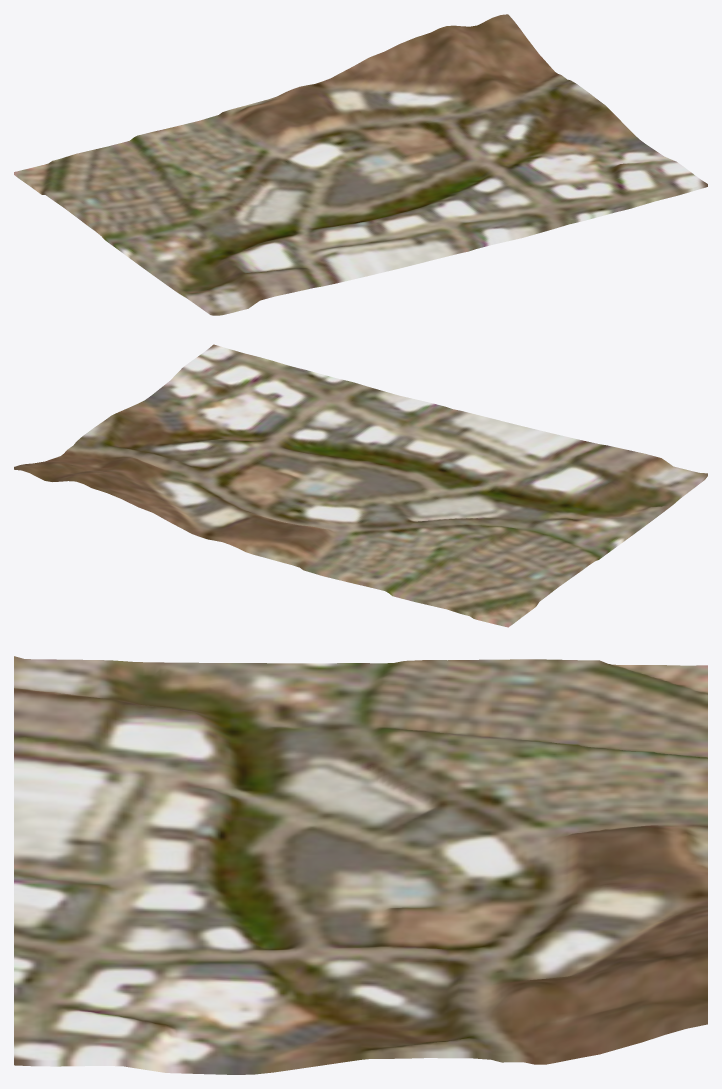
The model's file is terrain_r3_c5_lod1.glb.
3 renders of one model, top to bottom at view 1: azimuth 30°, elevation 25°; view 2: azimuth 150°, elevation 25°; view 3: azimuth 270°, elevation 25°, orthographic. The views are drawn at different scales.
Parts seen in each view (by area): view 1: terrain_r3_c5_lod1; view 2: terrain_r3_c5_lod1; view 3: terrain_r3_c5_lod1.
Boxes of the visible parts, x1,y1,x2,y2 form: terrain_r3_c5_lod1: [14, 14, 707, 315]; terrain_r3_c5_lod1: [14, 344, 707, 627]; terrain_r3_c5_lod1: [14, 656, 707, 1074].
Bounding box in the file's own units: 1125 × 94.49 × 787.
1 material, 1 textured.
